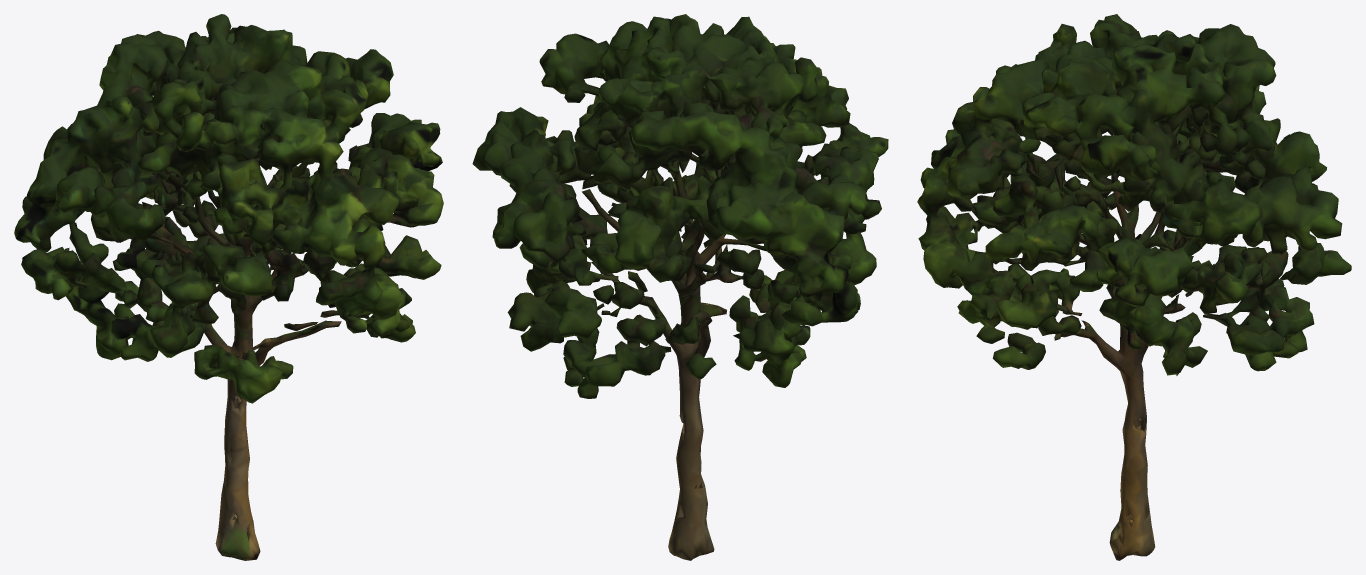
Rendered from AI_CanopyJungleTree.fbx.
The picture shows the model from 3 angles, left to right: view 1: azimuth 30°, elevation 25°; view 2: azimuth 150°, elevation 25°; view 3: azimuth 270°, elevation 25°; orthographic projection.
Visible parts, largest first — view 1: Mesh_0; view 2: Mesh_0; view 3: Mesh_0.
Boxes of the visible parts, x1=… form: Mesh_0: x1=14, y1=14, x2=443, y2=560; Mesh_0: x1=472, y1=14, x2=888, y2=560; Mesh_0: x1=917, y1=14, x2=1351, y2=560.
Size of the model in its own units: 157 by 202 by 151.
Materials: 1 (1 with a texture image).
